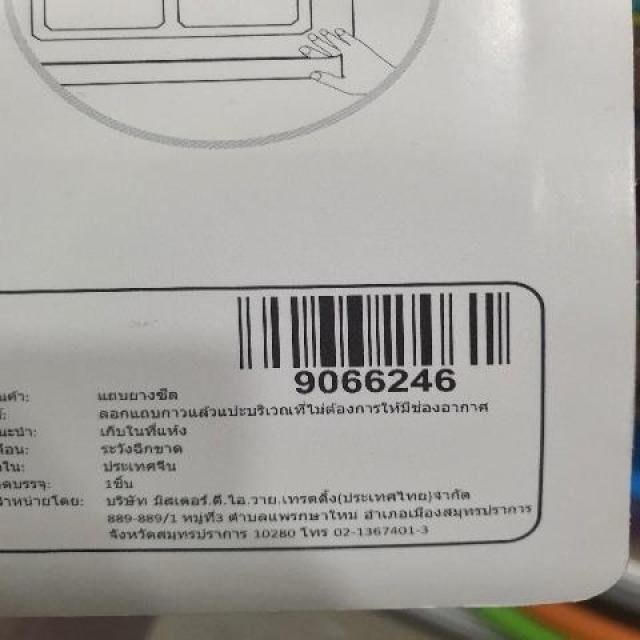Barcode: (224, 288, 531, 397)
